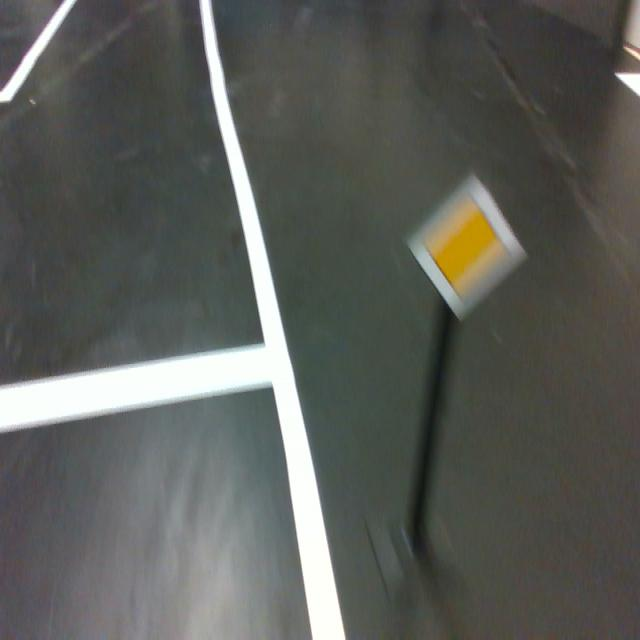priority-sign: (404, 171, 530, 325)
